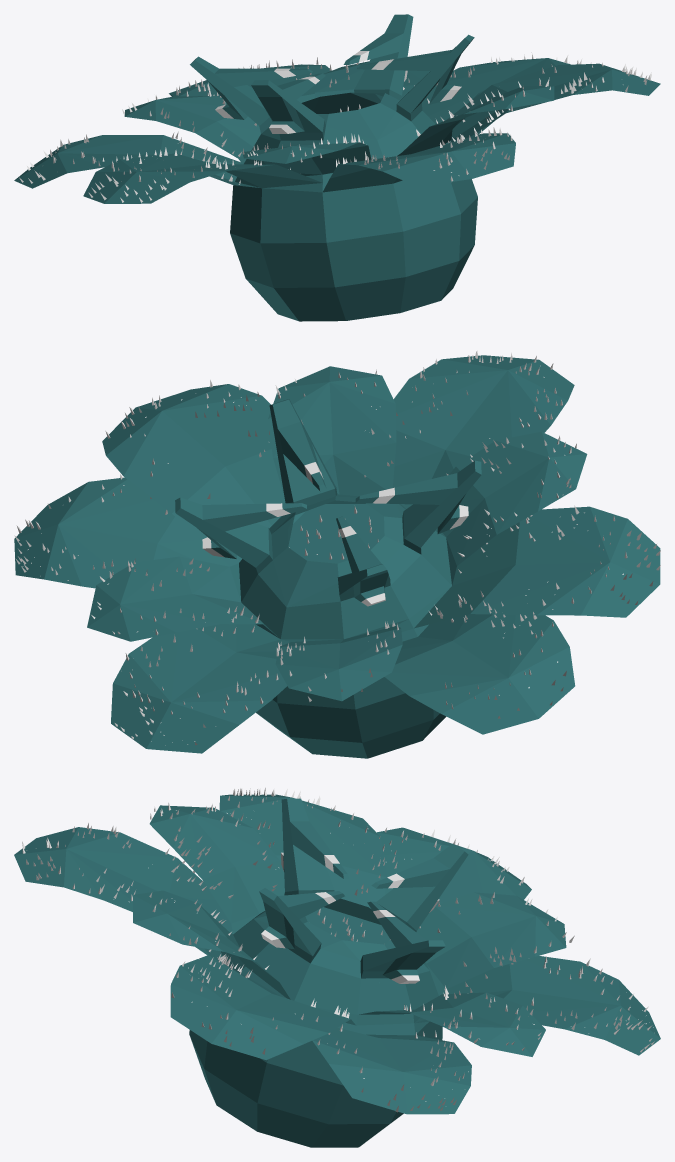
File: ResourceBeforeFlower2.fbx
The picture shows the model from 3 angles, top to bottom: view 1: azimuth 30°, elevation 25°; view 2: azimuth 150°, elevation 25°; view 3: azimuth 270°, elevation 25°; orthographic projection. The views are drawn at different scales.
Parts seen in each view (by area): view 1: Sphere, Cone.001; view 2: Sphere, Cone.001; view 3: Sphere, Cone.001.
Boxes of the visible parts, bbox=[...] form: Sphere: bbox=[14, 14, 660, 321]; Cone.001: bbox=[19, 52, 651, 202]; Sphere: bbox=[14, 355, 660, 758]; Cone.001: bbox=[14, 351, 660, 745]; Sphere: bbox=[14, 794, 660, 1147]; Cone.001: bbox=[22, 788, 654, 1112].
Size of the model in its own units: 52.93 by 25.32 by 52.55.
